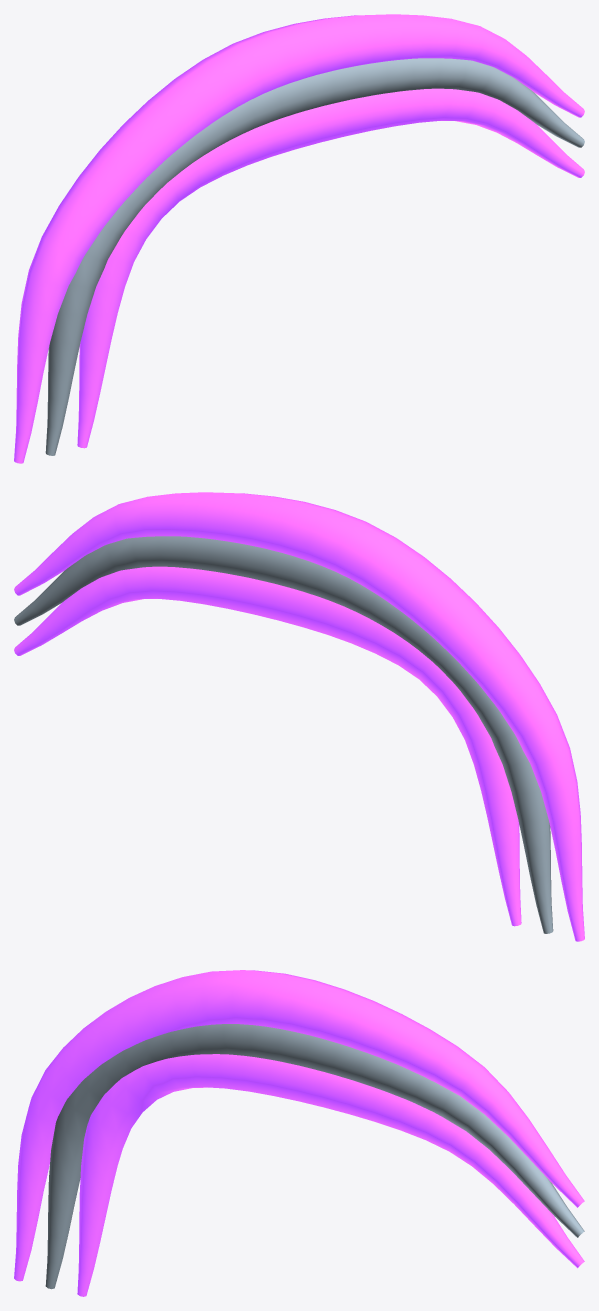
Rendered from moonsteel-convergence-triple-crescent-slash-5ccf55de__18215.glb.
3 renders of one model, top to bottom at view 1: azimuth 30°, elevation 25°; view 2: azimuth 150°, elevation 25°; view 3: azimuth 330°, elevation 25°, orthographic.
Parts seen in each view (by area): view 1: triple-crescent-slash; view 2: triple-crescent-slash; view 3: triple-crescent-slash.
Boxes of the visible parts, x1,y1,x2,y2 form: triple-crescent-slash: [14, 14, 584, 463]; triple-crescent-slash: [14, 492, 584, 941]; triple-crescent-slash: [14, 970, 584, 1296].
Size of the model in its own units: 1.97 by 1.22 by 0.19.
